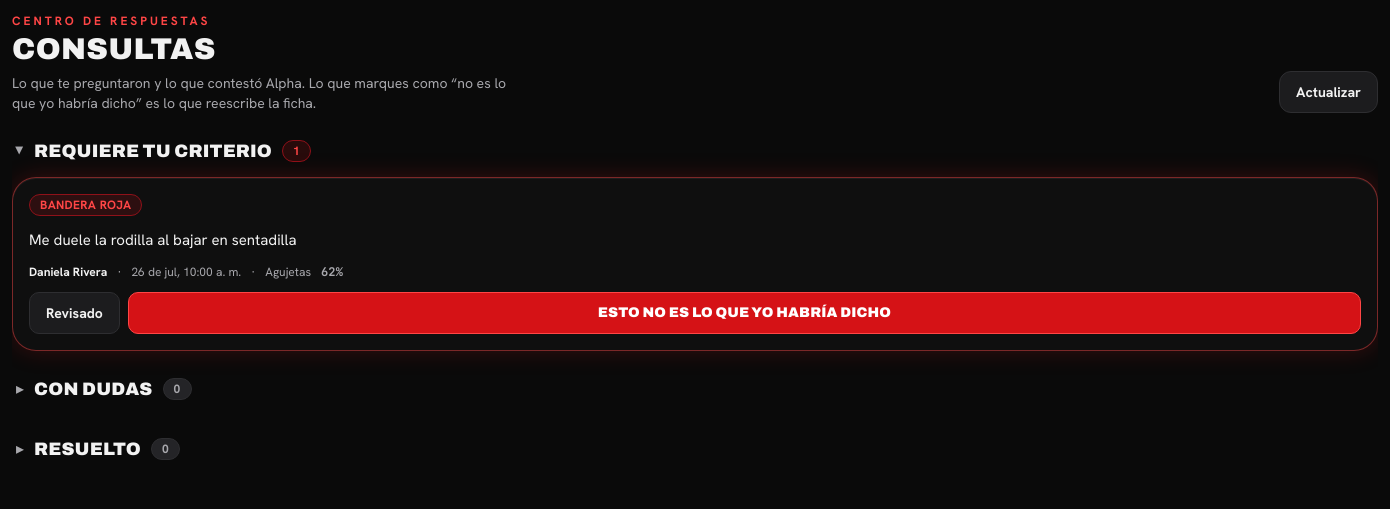
ConsultasPage › si el update devuelve error, tampoco se pinta como revisado
The width and height of the screenshot is (1390, 509).
Click the button "Revisado": (74, 313) [29,292,120,334]
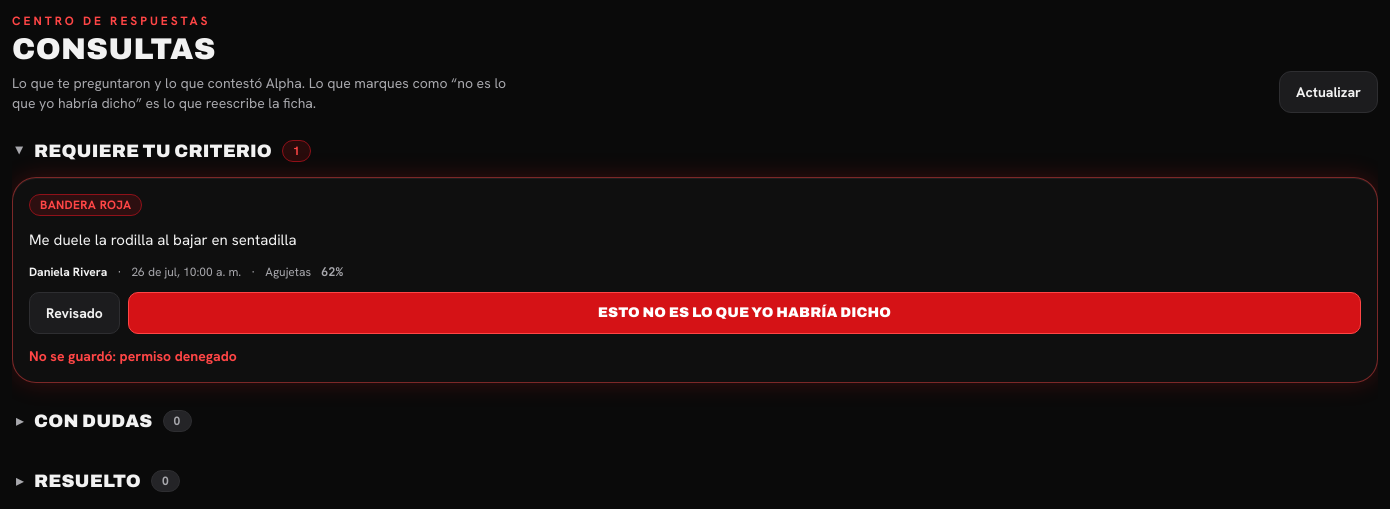
Expected: the text "No se guardó: permiso denegado" is shown, [29,347,237,365]
